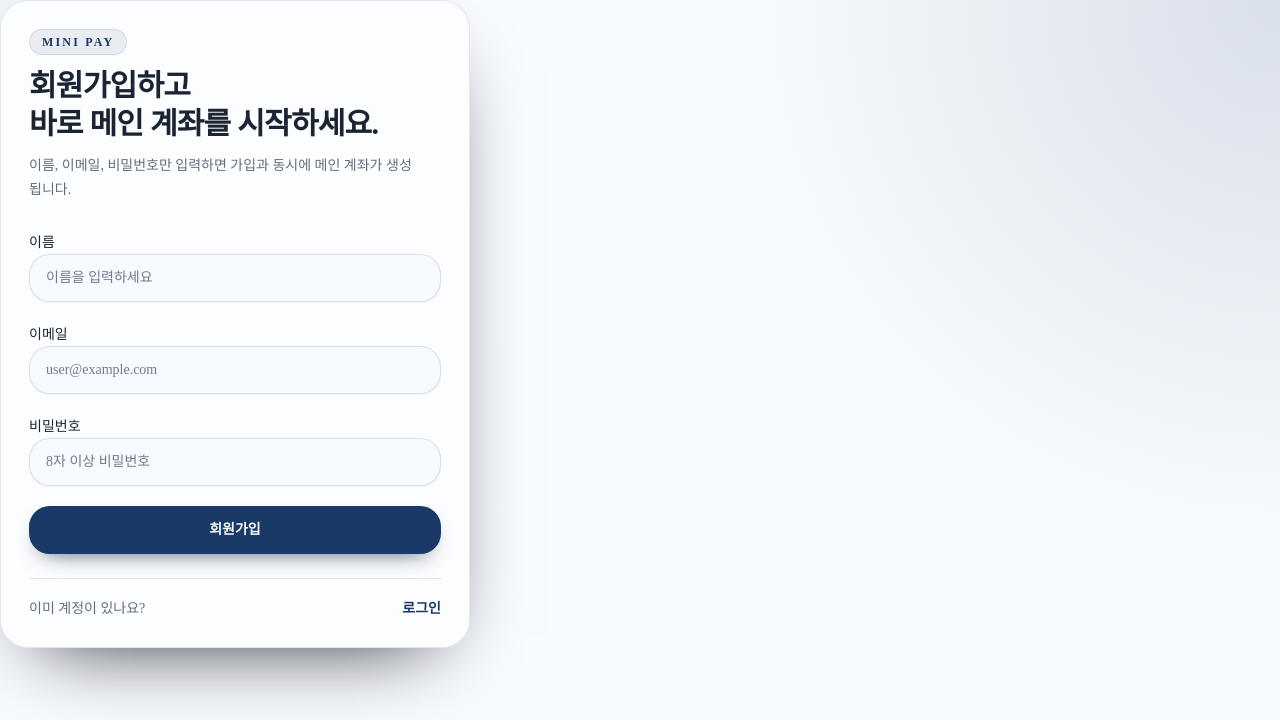
it: SignupForm › 이름 필드에 잘못된 값을 입력한 뒤 포커스를 벗어나면 검증 에러를 보여준다
The width and height of the screenshot is (1280, 720).
Type "홍" into the field labelled "이름" at (235, 278), box [29,254,441,302]
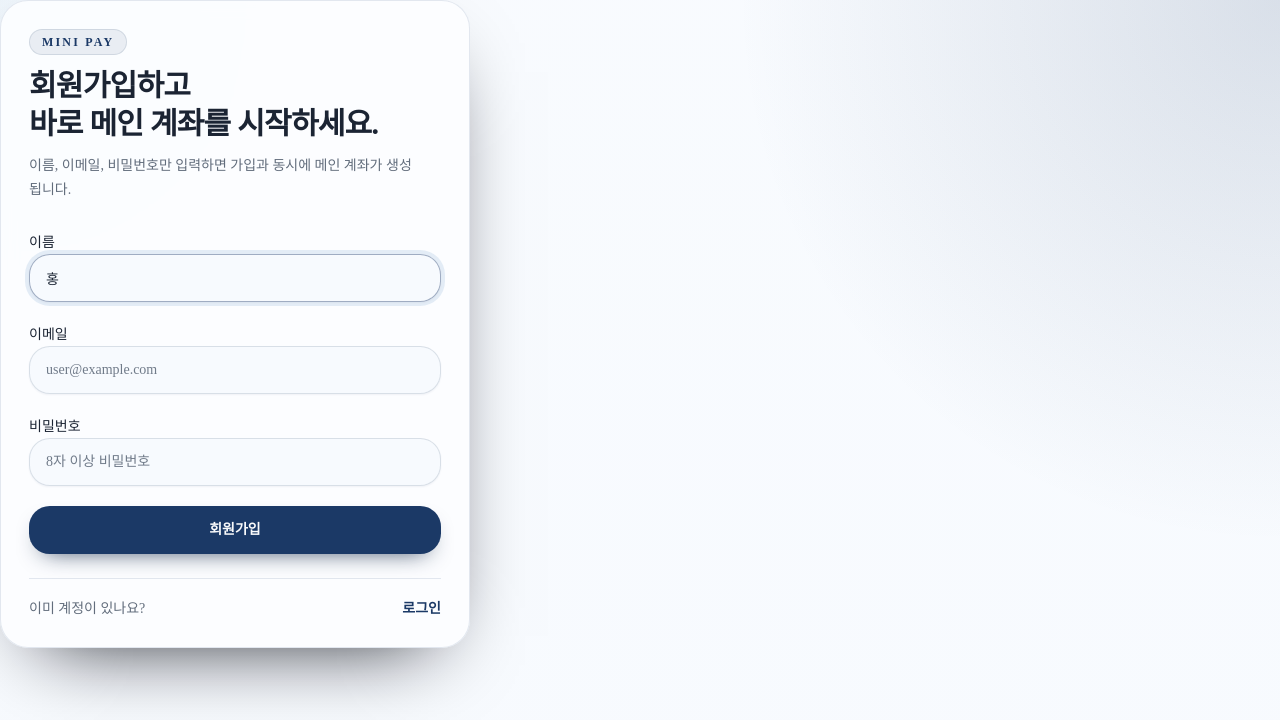
Press Tab
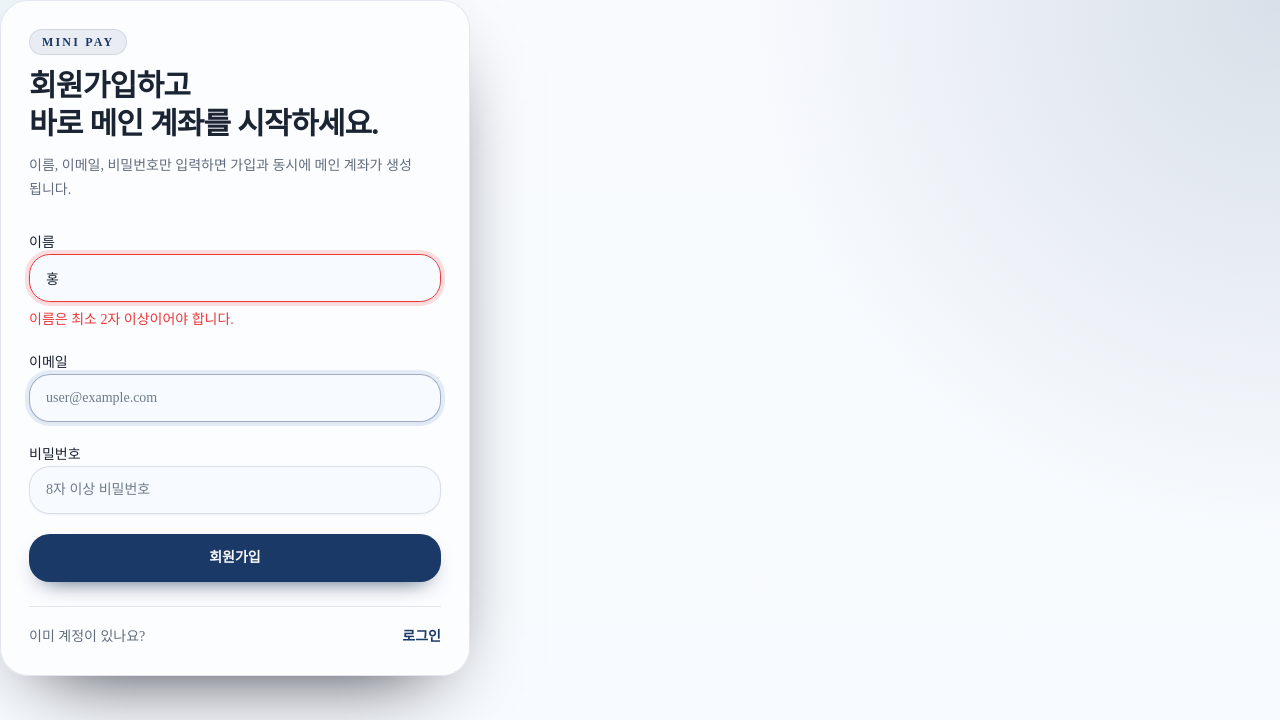
Check: the text "이름은 최소 2자 이상이어야 합니다." is shown, box [29,312,234,327]
